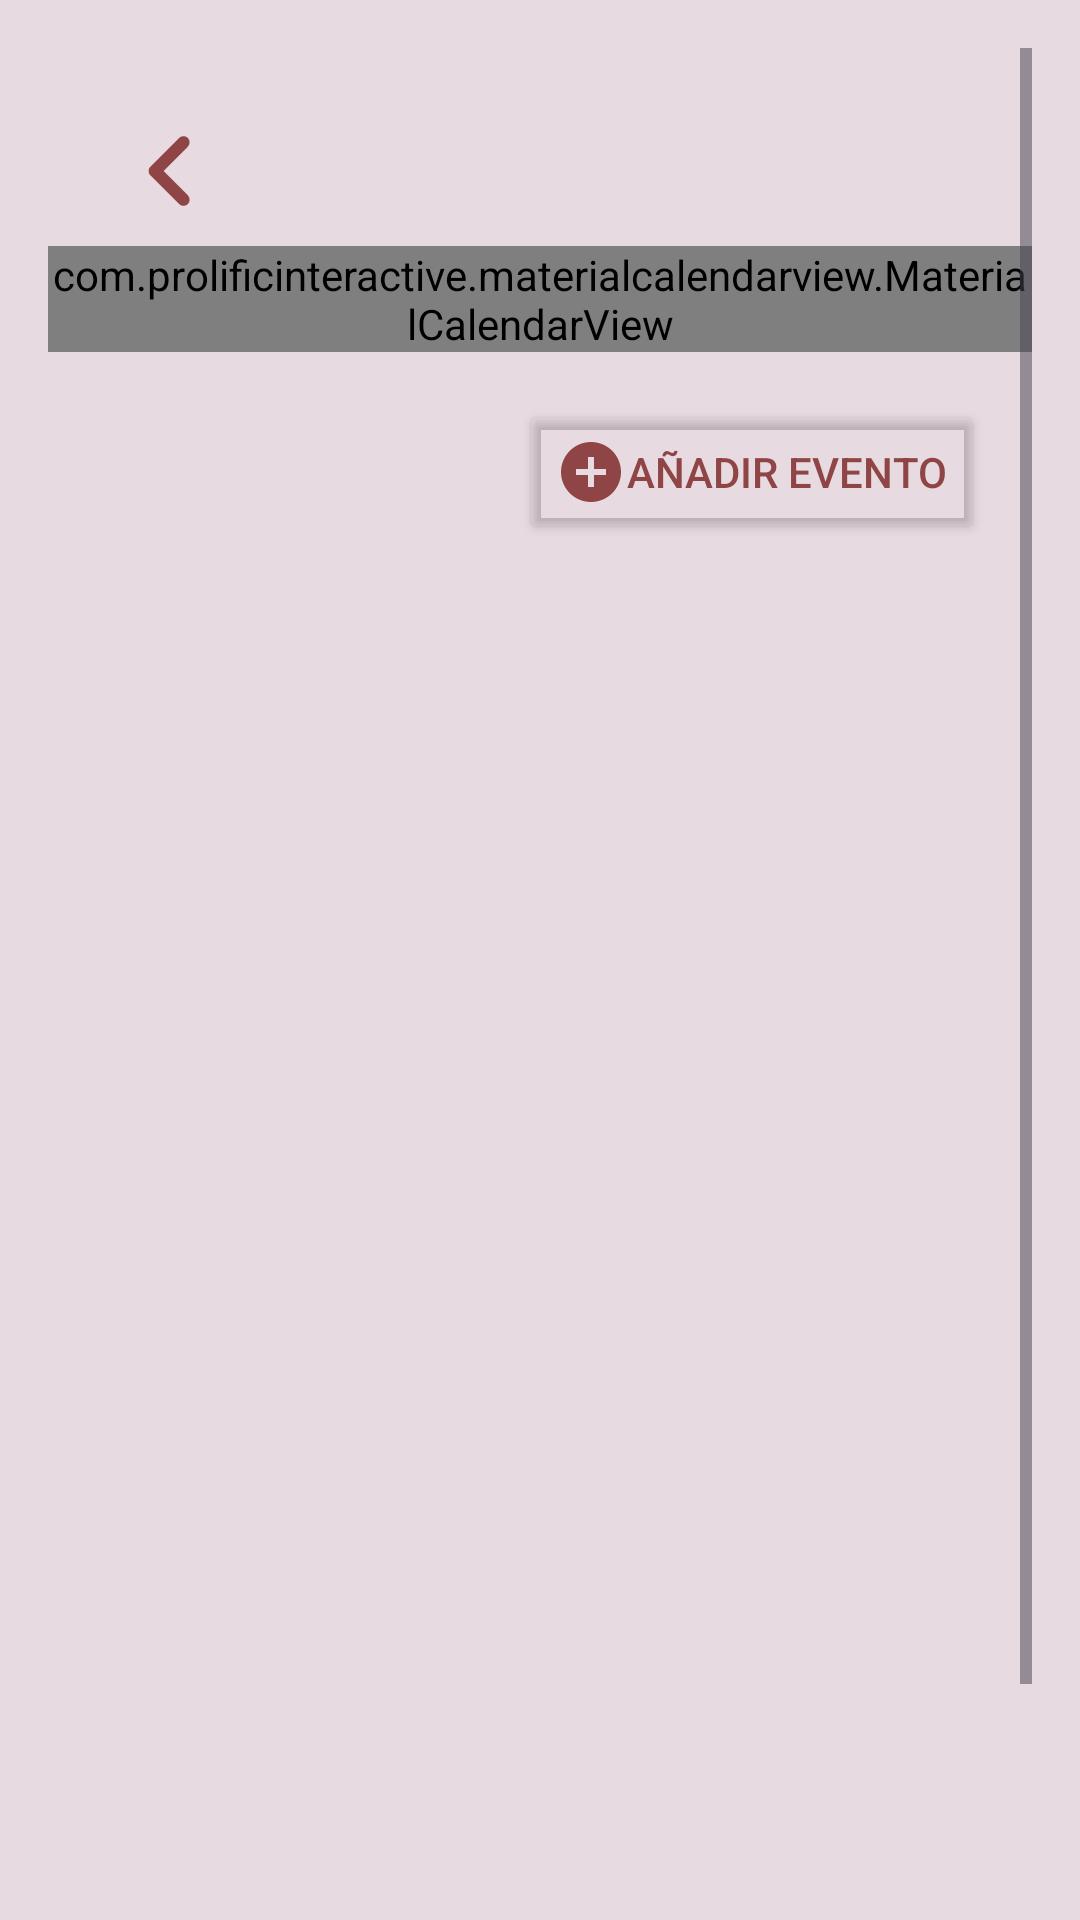

Named icons in this screenshot (1080 × 1920) and their centers, point (x, y):
Volver: point (169, 171)
